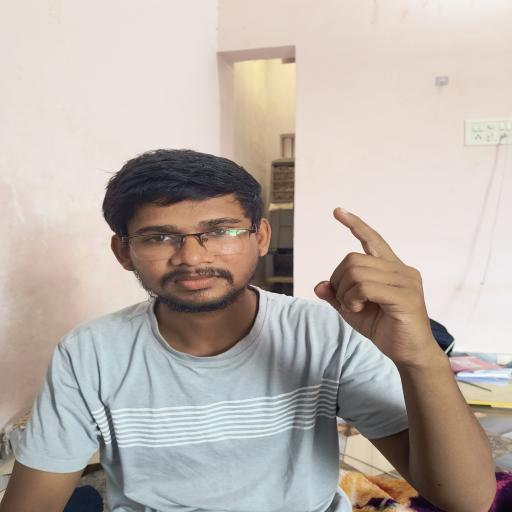What: (294, 196, 479, 380)
